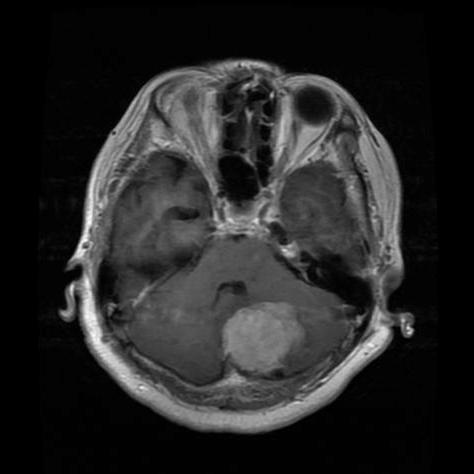Tumour-Meningioma: (208, 288, 319, 386)
